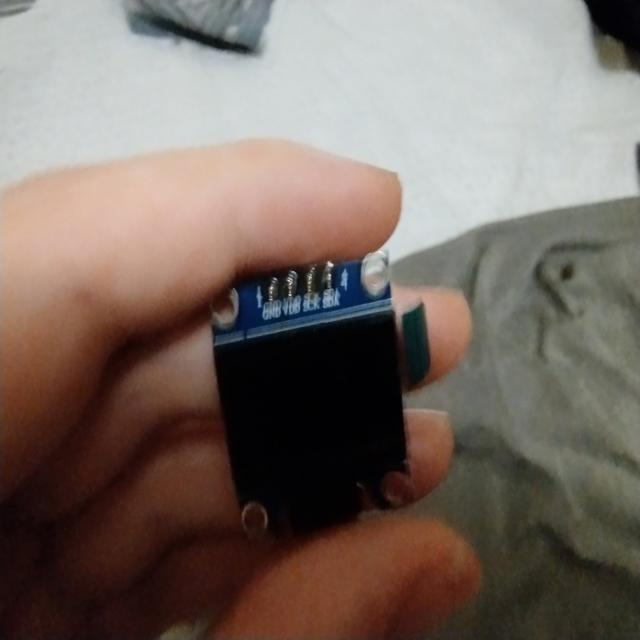oled: (206, 253, 414, 538)
